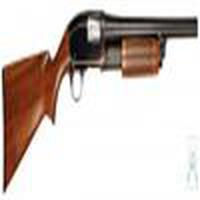gun: (4, 9, 200, 192)
